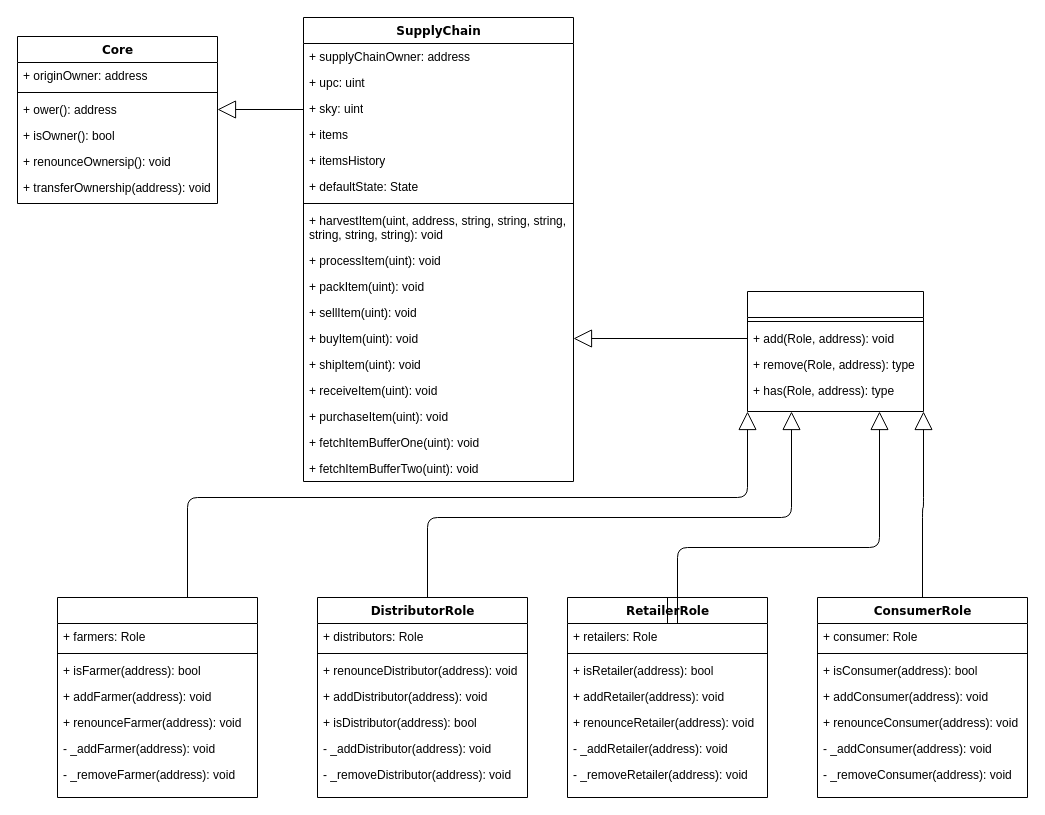
Image size: 1045x815. Some labels were removed from this diagram. The shapes that lost their labels are listed below. From the top down, each one's box as (x1, y1, x2, y2) in pixels, then its label:
(746, 290, 924, 412): Roles
(56, 596, 258, 798): FarmerRole
